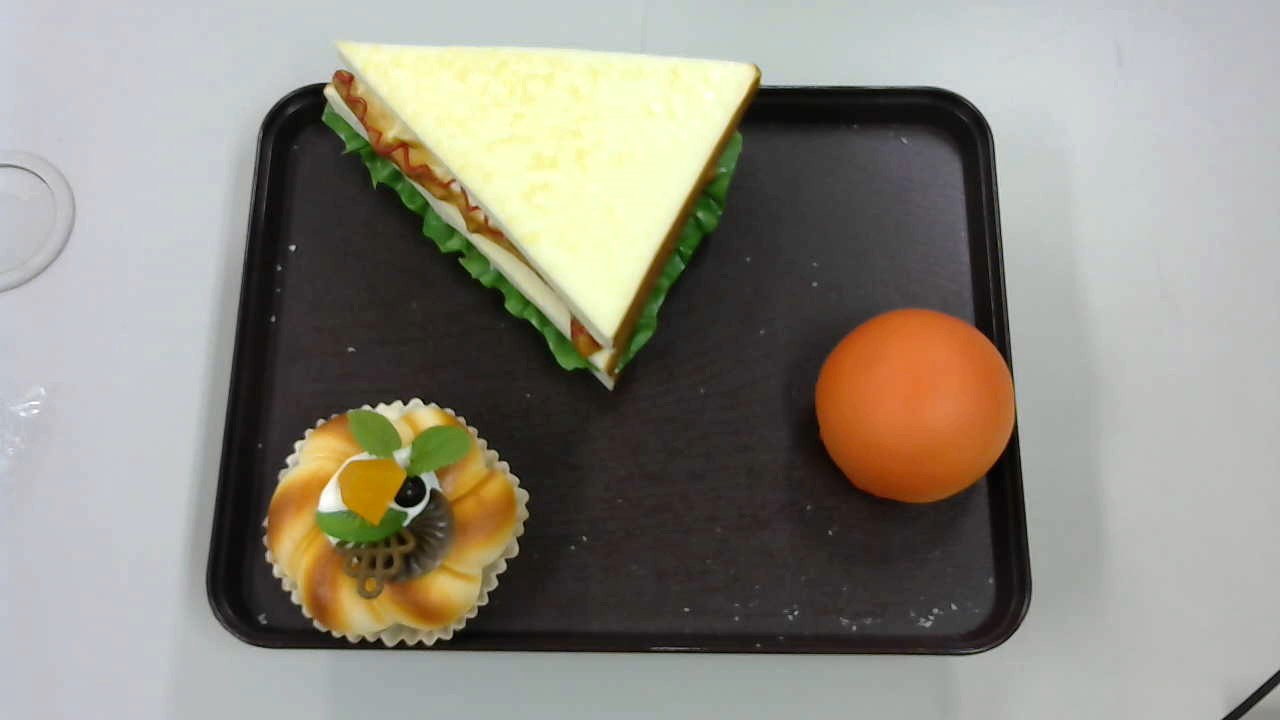bun: (814, 308, 1017, 499)
fruit tart: (262, 397, 529, 649)
sandwich: (323, 41, 763, 394)
